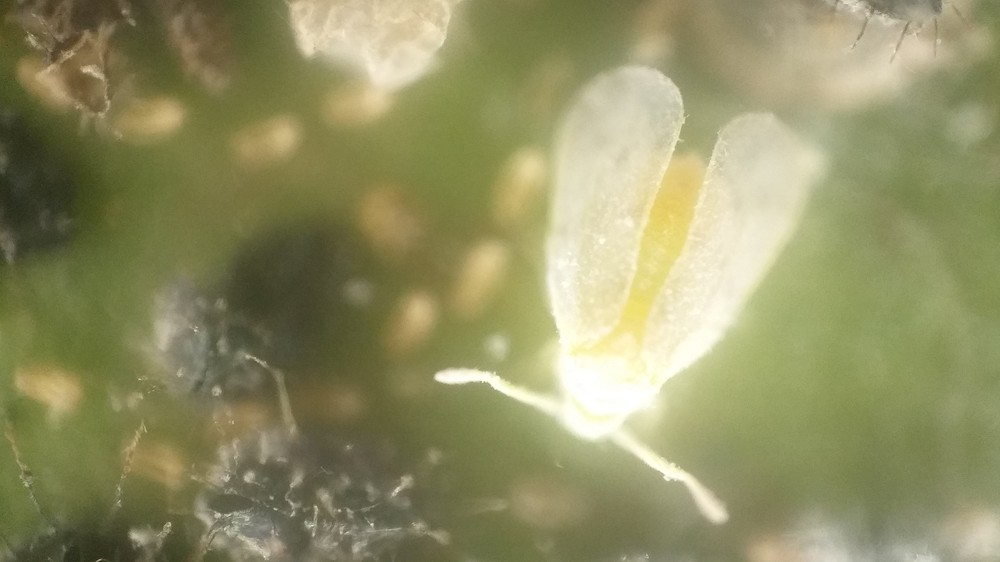Mosca Blanca: (426, 50, 826, 539)
